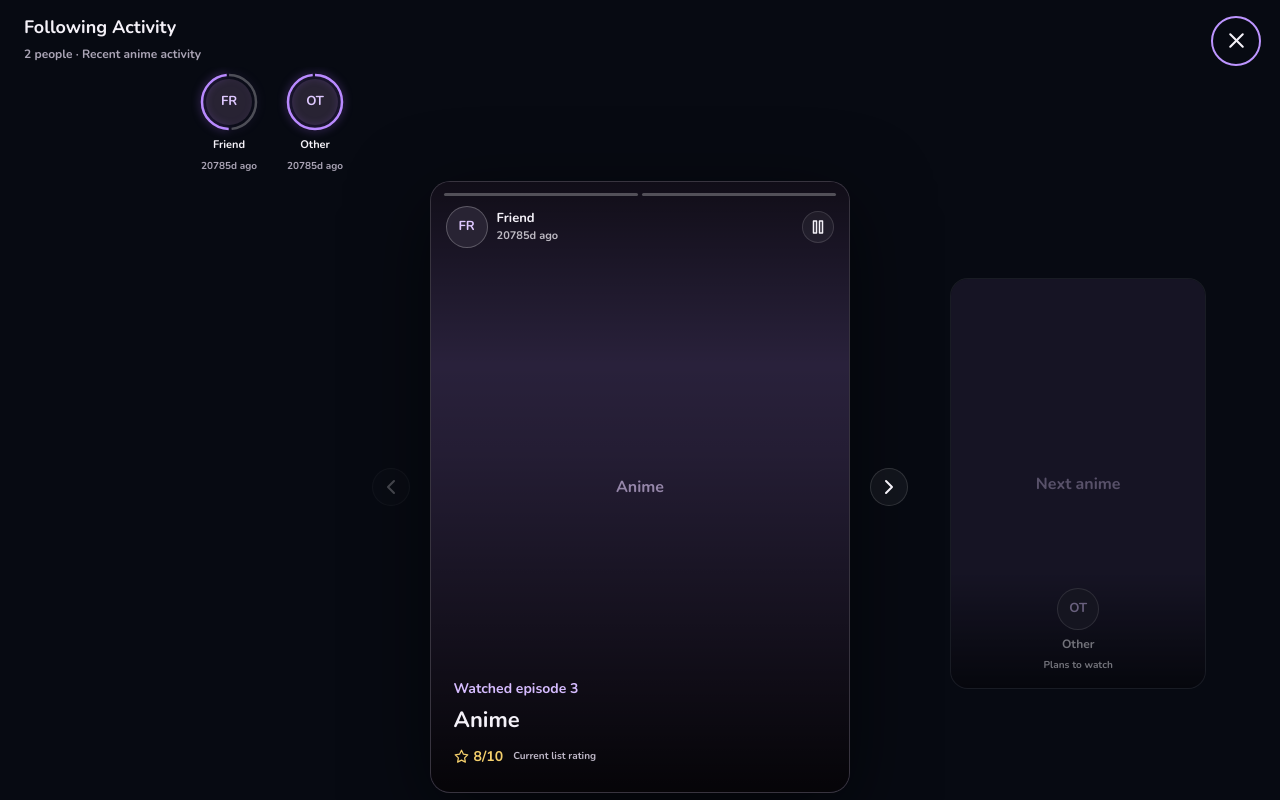
Test case: empty ring uses no avatar, new activity glows, and viewed state is account scoped
Earlier steps of the test are not shown.
Click the button named "Next activity" at [889, 487], box [870,468,908,506]
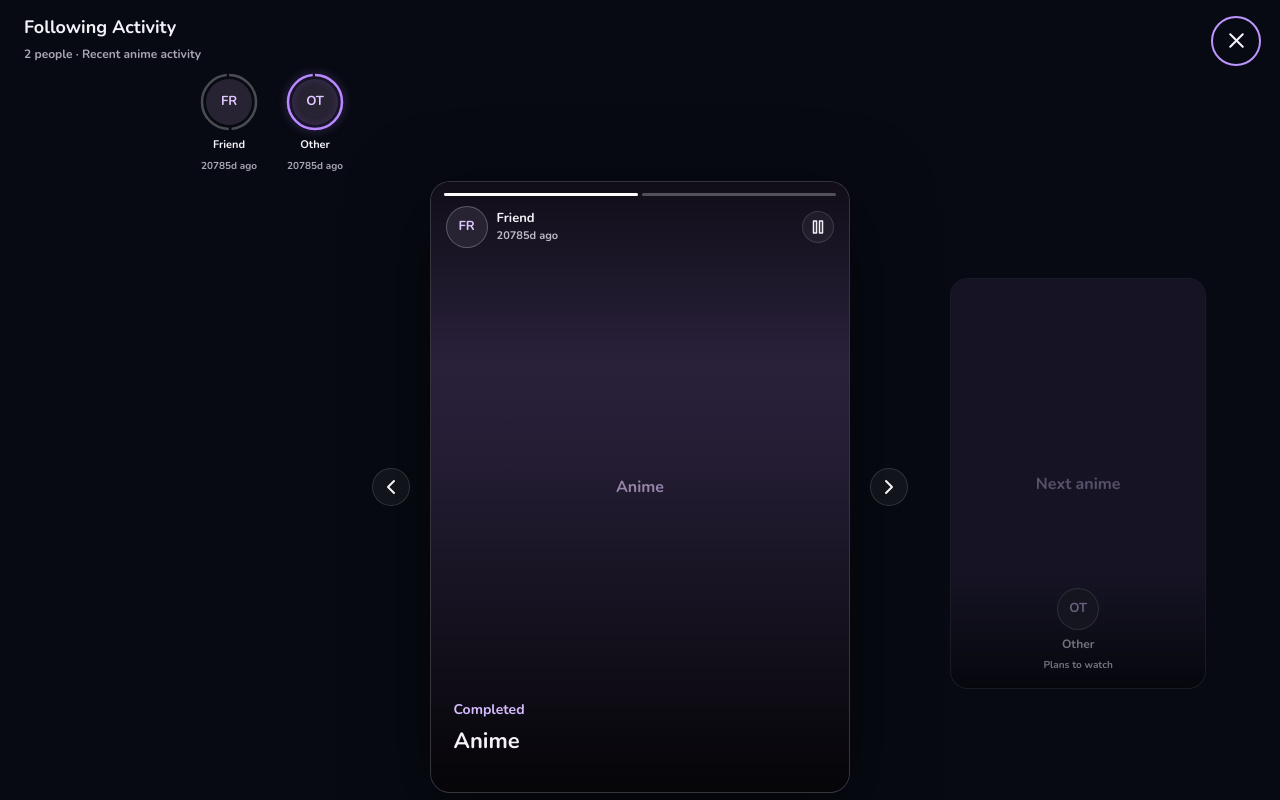
Click the button named "Close following activity" at [1236, 40], box [1216,20,1256,60]
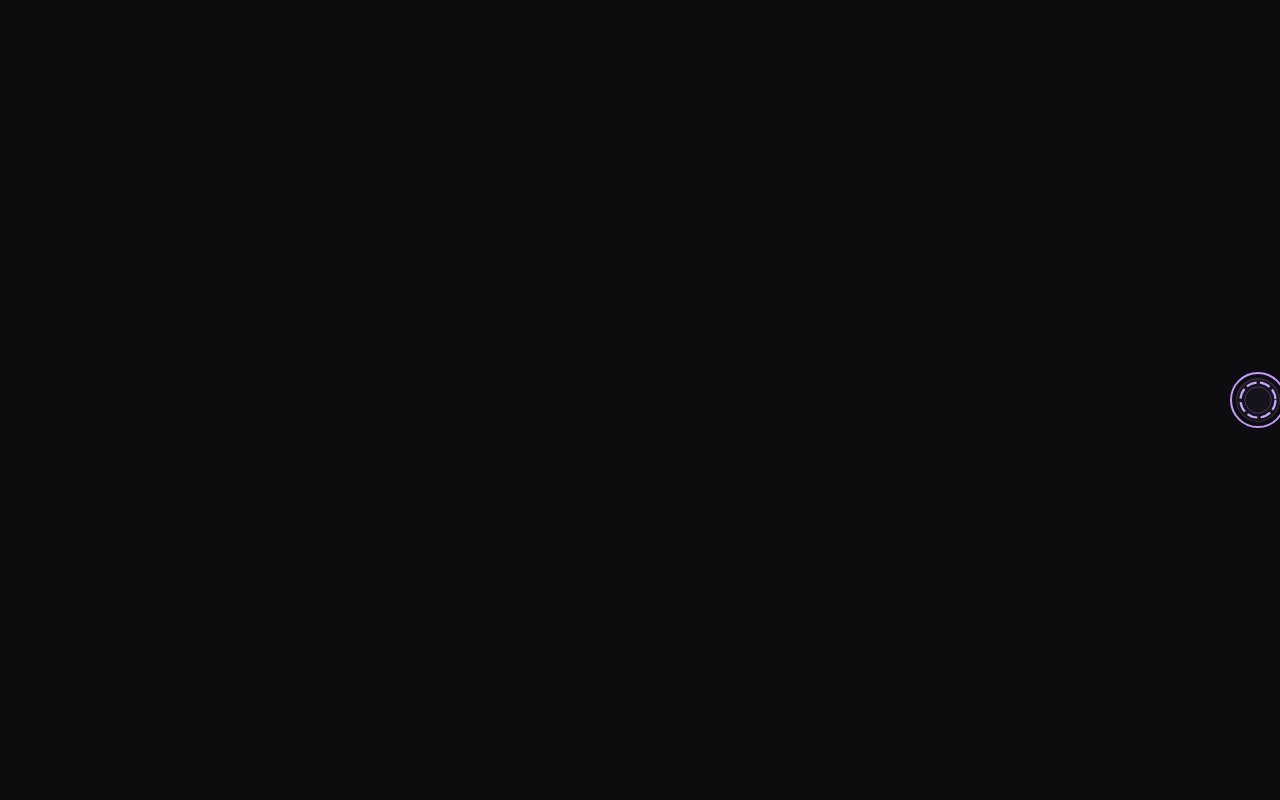
Result: the dialog is gone
